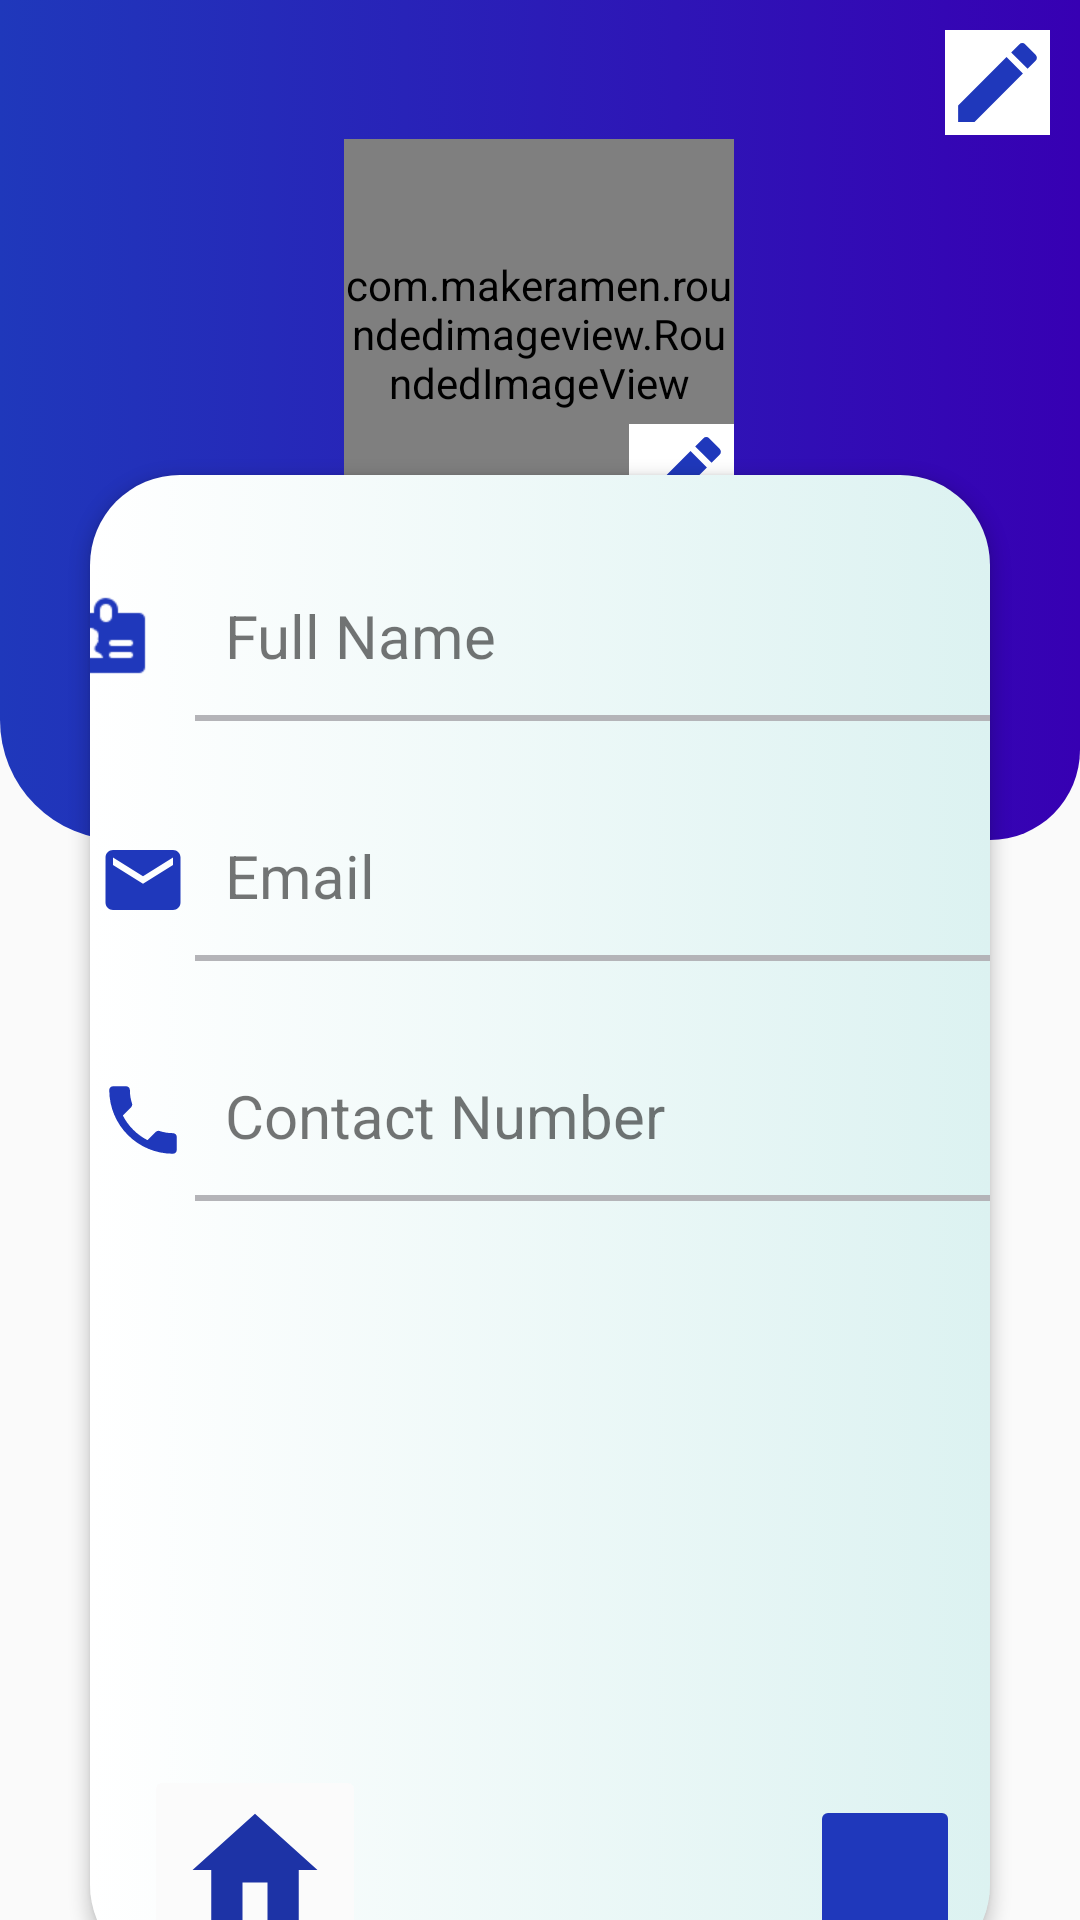

Icons on this 1080*1920 Android screen, each with its box as [x1,y1,x2,y2]:
phone: [109,1086,177,1154]
